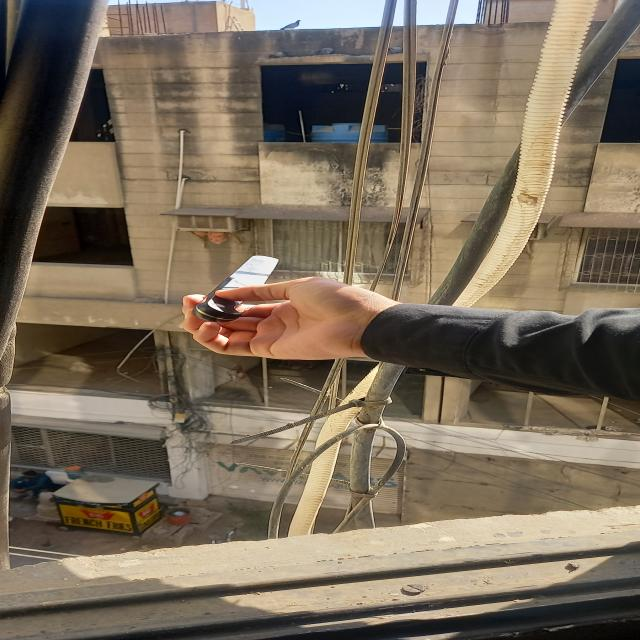weapon: (184, 249, 289, 327)
